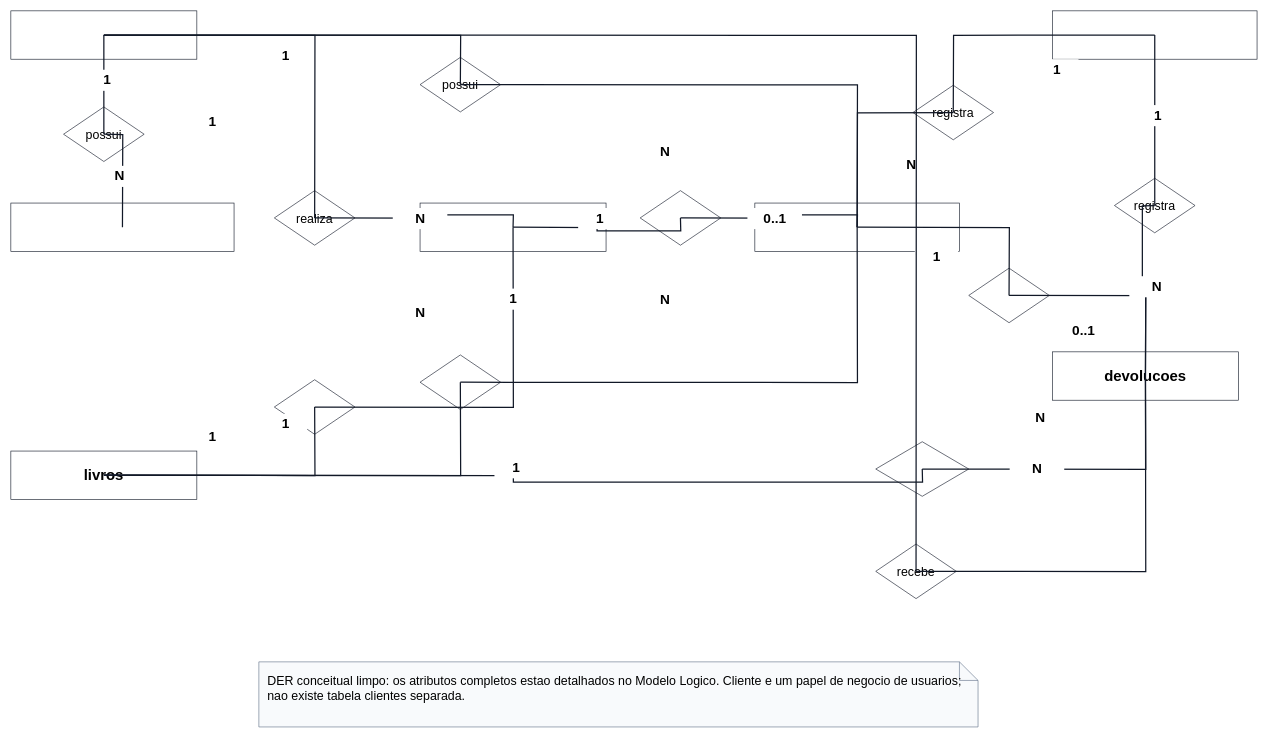
The diagram is 1268 pixels wide and 738 high, and some of its shapes have lost their labels. Here are the shapes that lost their labels. From the top down, the box of each, then its label:
(10, 10, 197, 59): usuarios
(1052, 10, 1257, 59): administradores
(10, 202, 234, 251): recuperacao_senha
(419, 202, 606, 251): reservas
(640, 190, 721, 245): origina
(754, 202, 959, 251): emprestimos
(968, 268, 1049, 323): gera
(419, 354, 501, 410): participa
(274, 379, 355, 434): integra
(875, 441, 969, 496): relaciona
